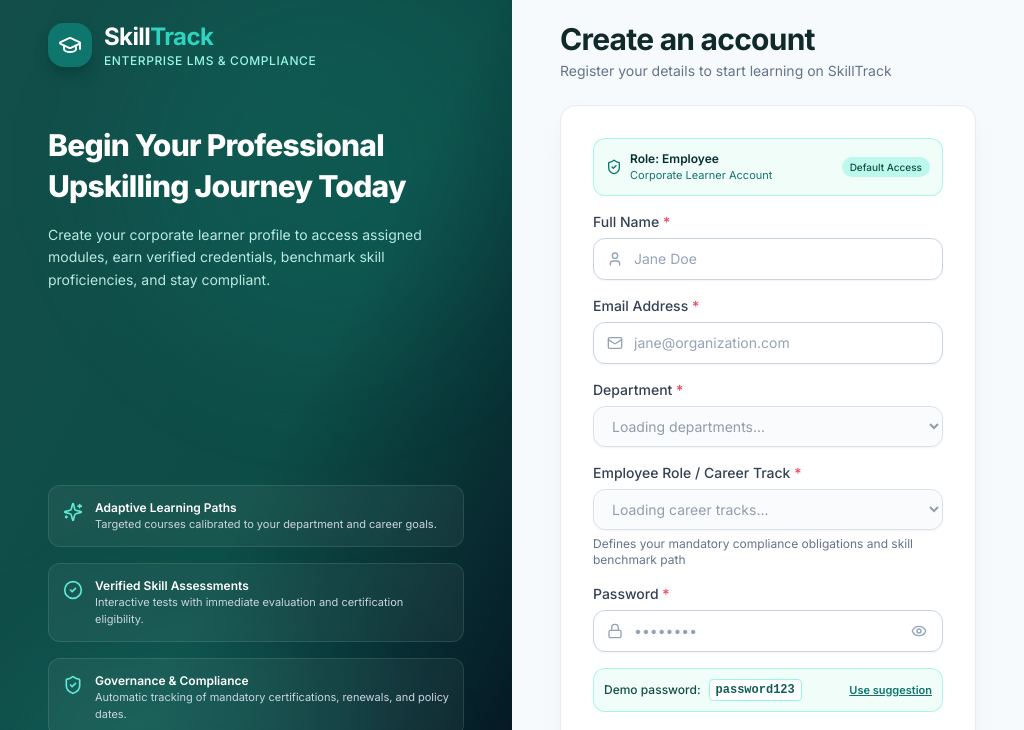
Scenario: RegisterPage (Scenarios 17-23) › 25. provides password123 demo suggestion and fills password fields when clicked
Expected: the text "password123" is shown, [709, 679, 802, 701]
Click the button "Use suggestion": coordinates (891, 690) [849, 682, 932, 698]
(page scrolled)
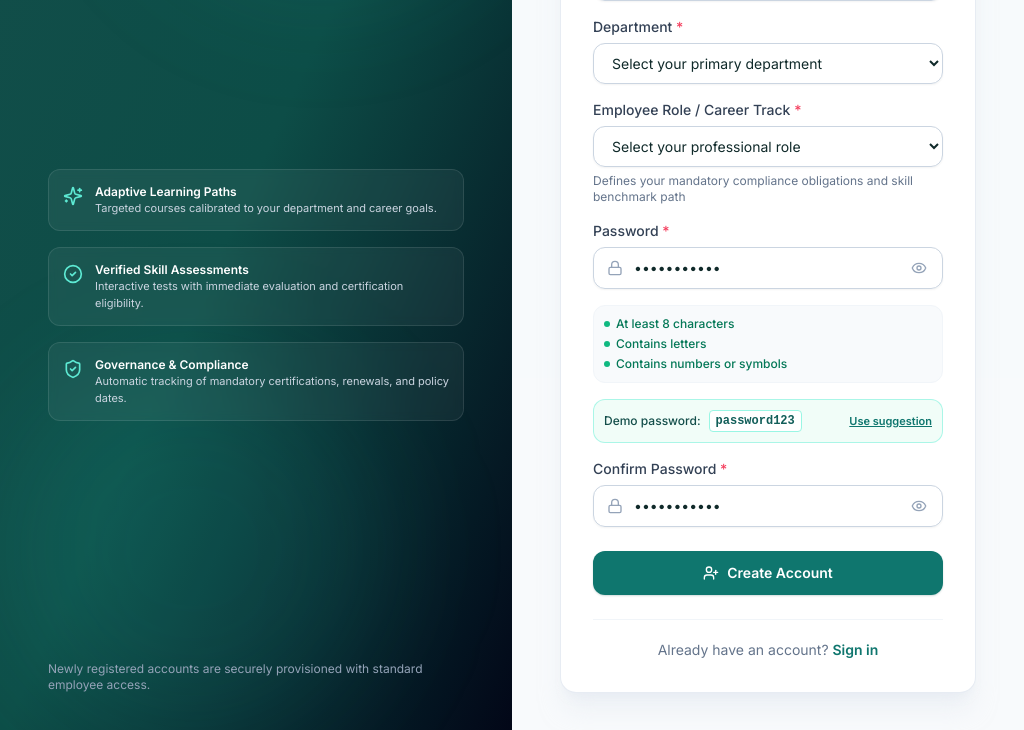
Result: the password field labelled "Password *" holds "password123" at [593, 247, 943, 289]
Result: the password field labelled "Confirm Password *" holds "password123" at [593, 485, 943, 527]
